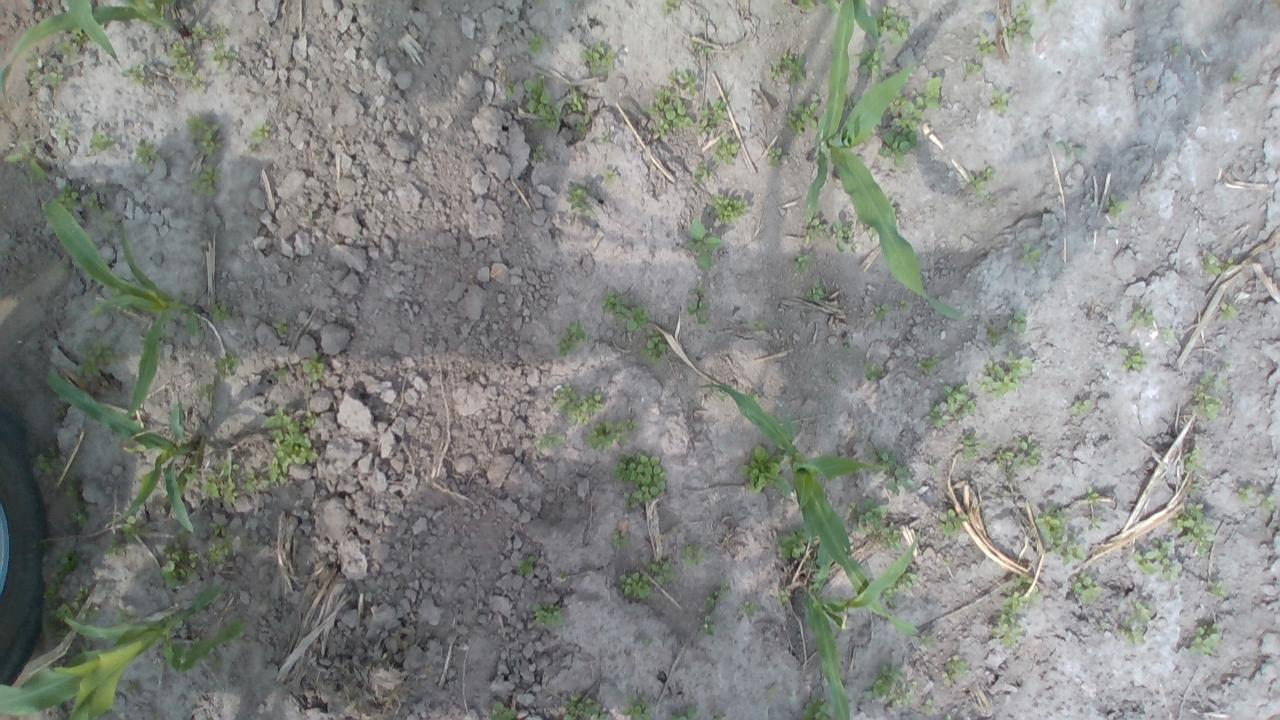Maize: (702, 380, 930, 642), (803, 0, 963, 322), (40, 197, 204, 419), (0, 577, 250, 720), (41, 365, 202, 531), (802, 528, 924, 720), (0, 0, 191, 98), (821, 0, 883, 54)
Weeds: (262, 408, 320, 486), (990, 575, 1040, 646), (879, 93, 926, 168), (610, 450, 669, 507), (1034, 504, 1085, 564), (43, 586, 96, 640), (863, 446, 919, 495), (738, 446, 792, 496), (854, 496, 902, 552), (978, 351, 1032, 400), (203, 462, 262, 506), (1167, 500, 1214, 552), (41, 544, 80, 606), (190, 18, 240, 66), (158, 542, 204, 594), (164, 38, 207, 92), (548, 385, 603, 426), (648, 88, 694, 136), (1133, 538, 1184, 580), (522, 75, 562, 128), (862, 665, 912, 705), (600, 291, 648, 332), (990, 435, 1040, 474), (584, 416, 638, 452), (686, 218, 723, 269), (1191, 371, 1228, 421), (1118, 602, 1156, 646), (184, 114, 220, 160), (60, 474, 90, 528), (1002, 0, 1034, 50), (2, 143, 47, 178), (76, 340, 114, 380), (874, 5, 910, 46), (559, 690, 607, 720), (22, 54, 64, 88), (942, 382, 978, 420), (558, 321, 594, 358), (577, 41, 615, 76), (708, 192, 749, 224), (55, 24, 93, 57), (694, 98, 728, 133), (775, 524, 807, 560), (768, 52, 806, 82), (1188, 624, 1222, 657), (786, 102, 818, 136), (640, 334, 669, 370), (616, 570, 653, 598), (1070, 570, 1102, 602), (936, 508, 968, 540), (857, 48, 886, 82), (190, 164, 222, 194), (113, 513, 145, 542), (565, 184, 595, 214), (55, 184, 79, 221), (702, 581, 732, 610), (968, 166, 995, 198), (206, 536, 234, 566), (34, 448, 64, 476), (801, 695, 834, 720), (668, 68, 697, 96), (622, 693, 652, 720), (830, 219, 854, 252), (530, 602, 566, 624), (803, 212, 828, 243), (300, 350, 324, 382), (712, 138, 741, 164), (53, 116, 76, 148), (1128, 304, 1156, 330), (942, 656, 970, 682), (1118, 346, 1144, 373), (1104, 192, 1130, 219), (134, 140, 160, 167), (914, 352, 944, 374), (924, 77, 944, 110), (650, 557, 674, 584), (1200, 255, 1233, 274), (215, 352, 240, 377), (683, 542, 707, 568), (250, 124, 274, 150), (120, 63, 148, 85), (487, 702, 518, 720), (687, 300, 708, 326), (536, 431, 568, 448), (896, 567, 918, 591), (1054, 142, 1083, 160), (880, 581, 898, 609), (960, 434, 978, 462), (1182, 445, 1200, 472), (514, 554, 536, 576), (667, 705, 699, 720), (990, 88, 1010, 112), (806, 278, 827, 300), (1006, 311, 1026, 334), (928, 400, 944, 428), (1218, 302, 1240, 322), (698, 614, 718, 636), (90, 130, 112, 150), (211, 302, 235, 320), (975, 35, 996, 55), (982, 326, 1002, 346), (610, 528, 630, 548), (112, 608, 137, 624), (861, 360, 880, 381), (689, 37, 711, 55), (104, 540, 126, 558), (739, 599, 759, 618), (691, 163, 710, 182), (1022, 244, 1041, 263), (568, 94, 588, 112), (196, 382, 214, 402), (921, 696, 938, 717), (207, 519, 228, 536), (1086, 486, 1102, 508), (766, 146, 782, 168), (528, 35, 546, 54), (600, 168, 619, 186), (1235, 483, 1253, 501), (1208, 580, 1226, 598), (272, 319, 290, 337), (84, 190, 98, 213), (1070, 398, 1090, 414), (661, 0, 682, 15), (918, 630, 936, 647), (874, 303, 891, 321), (1260, 494, 1277, 511), (776, 589, 791, 608), (271, 367, 290, 382), (794, 255, 810, 272), (687, 282, 705, 295), (531, 143, 544, 161), (963, 61, 983, 72), (1088, 514, 1102, 528), (1162, 326, 1174, 342), (750, 320, 768, 330), (598, 132, 610, 147), (798, 0, 814, 11), (1190, 480, 1202, 494), (899, 300, 912, 312), (53, 406, 67, 417), (126, 682, 138, 694), (746, 391, 760, 401), (719, 390, 730, 401), (1232, 73, 1244, 83), (1170, 46, 1180, 56), (830, 374, 840, 384), (1044, 0, 1056, 8), (533, 0, 545, 8), (505, 86, 514, 96), (152, 711, 161, 720), (574, 120, 584, 128), (927, 462, 937, 470), (943, 560, 953, 566), (713, 714, 722, 720)
